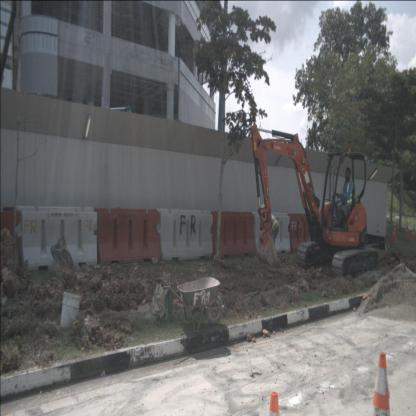barrier: (16, 203, 98, 274), (94, 206, 162, 268), (158, 206, 214, 264), (210, 209, 256, 259), (287, 210, 323, 256), (255, 211, 291, 257), (0, 203, 22, 271)
cone: (358, 352, 405, 416), (256, 392, 295, 416), (373, 224, 382, 245), (390, 226, 398, 244), (410, 224, 416, 242), (404, 222, 410, 239), (395, 219, 399, 234)
